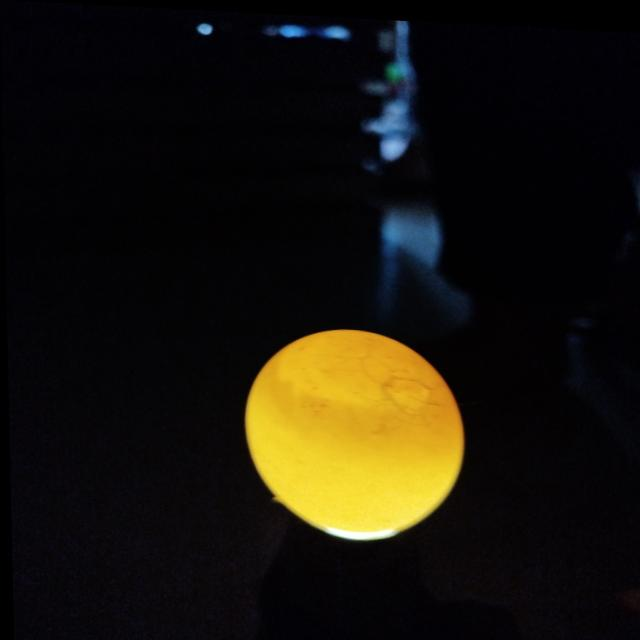Camara de Ar: (277, 327, 444, 404)
Rachadura: (359, 351, 440, 421)
